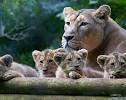lion: (57, 7, 126, 57)
